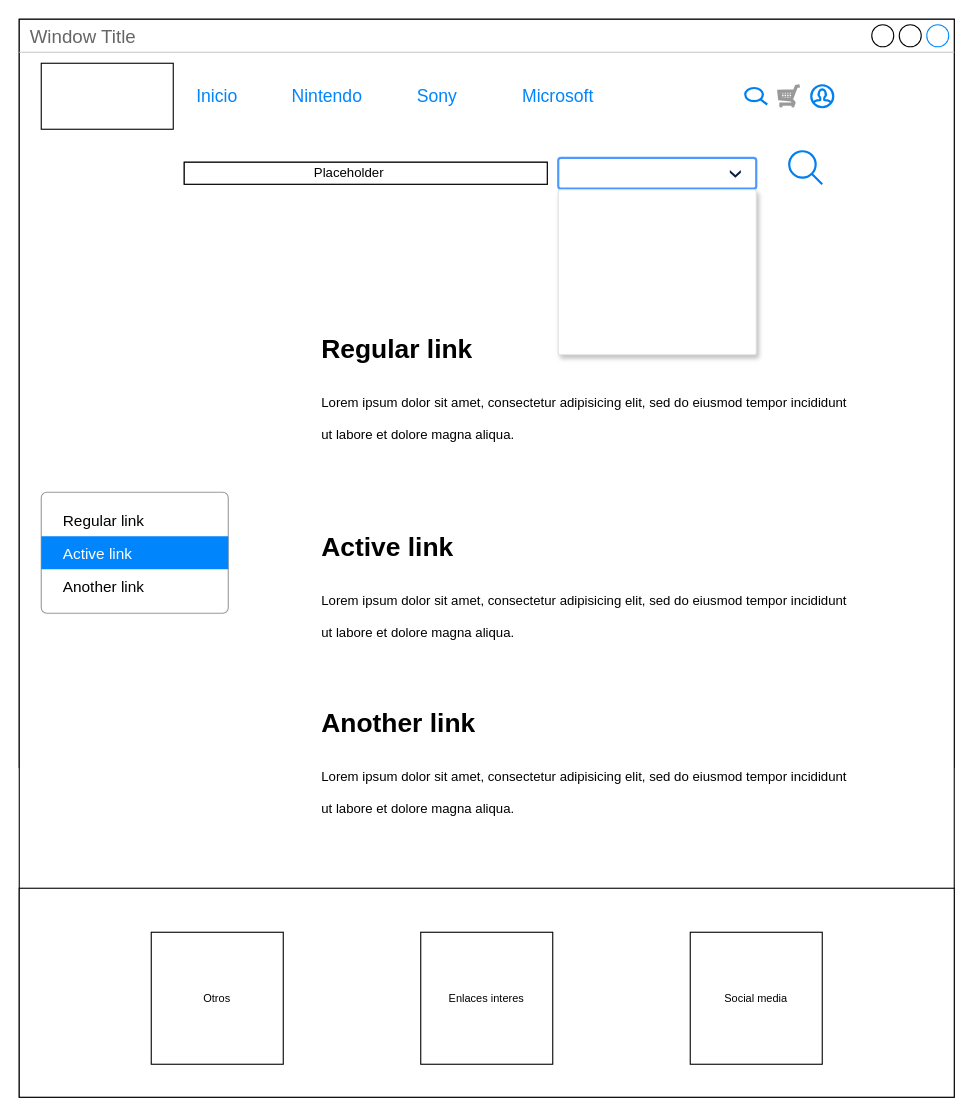
Image size: 974x1117. Some labels were removed from this diagram. Here are the shapes that lost their labels. From the top down, the centre of each, then its label:
At point (106, 95): "Logo".
At point (657, 172): "Consola".
At point (658, 273): "Consola PS5 Xbox series x Nintendo Switch".
